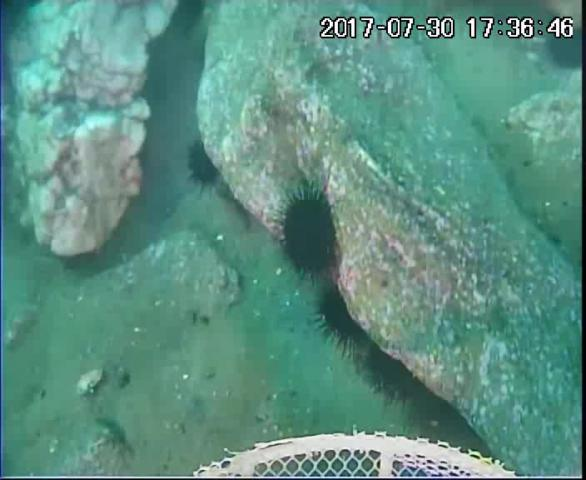echinus: (283, 188, 342, 278), (319, 286, 377, 353), (366, 346, 428, 406), (549, 20, 586, 75), (187, 139, 221, 189), (169, 1, 206, 39)
